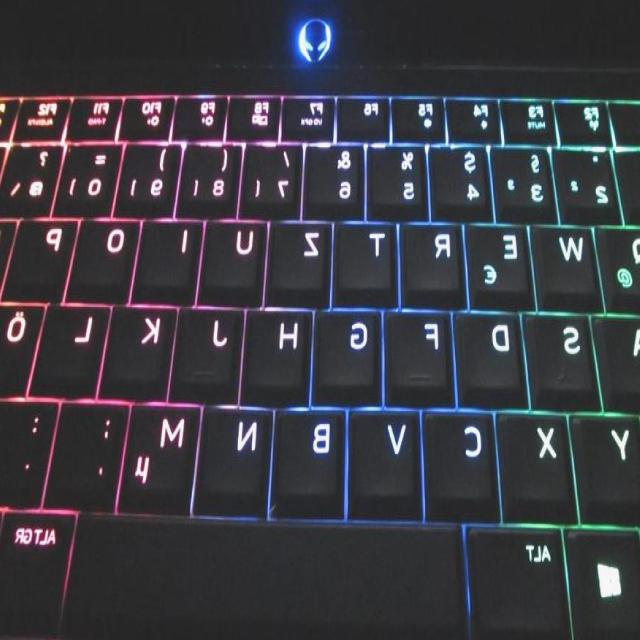0: (57, 141, 117, 217)
1: (615, 146, 640, 224)
2: (555, 147, 621, 223)
3: (491, 143, 558, 221)
4: (432, 144, 490, 220)
5: (368, 142, 428, 220)
6: (304, 140, 366, 220)
7: (241, 141, 301, 217)
8: (182, 140, 242, 216)
9: (113, 138, 184, 216)
a: (593, 317, 640, 412)
alt-left: (470, 525, 575, 640)
altgr-right: (0, 507, 76, 639)
b: (274, 401, 346, 515)
c: (421, 406, 501, 523)
comma: (41, 397, 133, 509)
d: (453, 307, 529, 406)
e: (465, 219, 535, 311)
f: (381, 308, 457, 407)
g: (313, 305, 384, 405)
h: (243, 302, 314, 402)
i: (132, 214, 202, 306)
j: (174, 301, 245, 401)
k: (104, 301, 175, 401)
l: (37, 297, 108, 397)
m: (122, 401, 202, 515)
n: (194, 401, 274, 515)
o: (64, 215, 144, 299)
oe: (0, 297, 43, 397)
p: (5, 214, 75, 306)
point: (0, 393, 60, 505)
q: (593, 221, 640, 313)
r: (395, 219, 465, 311)
s: (521, 312, 600, 407)
space: (51, 520, 468, 640)
ss: (0, 137, 66, 215)
t: (337, 218, 395, 306)
u: (199, 215, 269, 303)
ue: (0, 217, 21, 301)
v: (349, 406, 421, 520)
w: (530, 221, 604, 308)
x: (495, 407, 575, 524)
y: (571, 408, 640, 525)
z: (268, 218, 331, 306)
